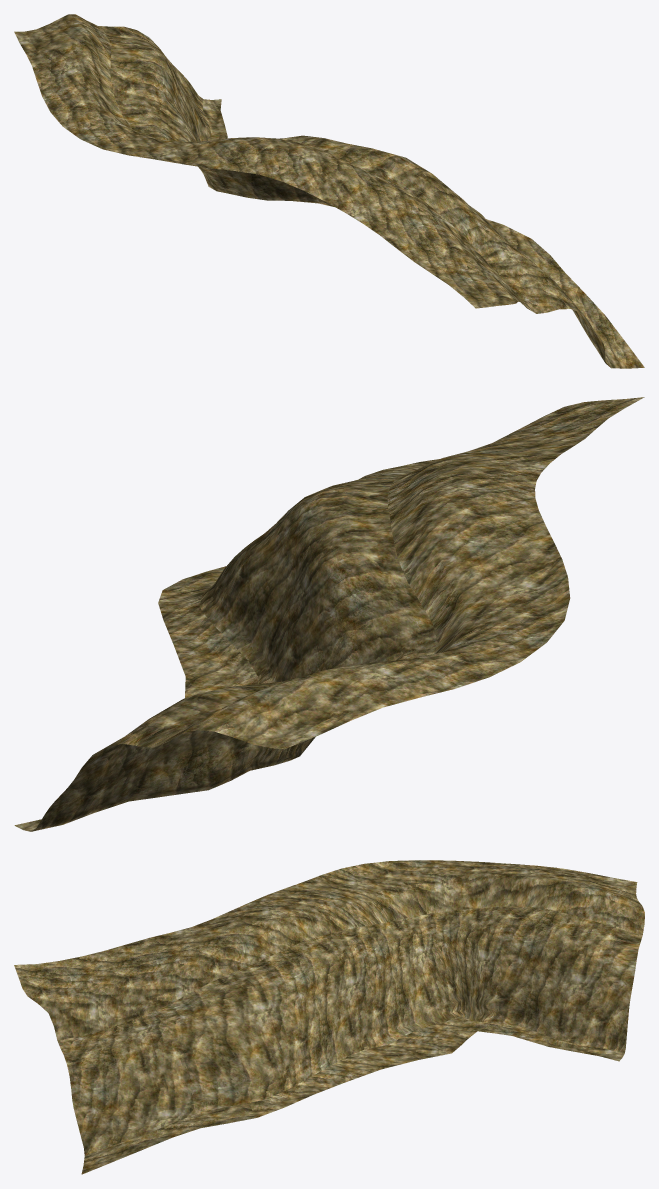
The model's file is RM_PLAYSURFACE_FINAL_MESH06.fbx.
3 renders of one model, top to bottom at view 1: azimuth 30°, elevation 25°; view 2: azimuth 150°, elevation 25°; view 3: azimuth 270°, elevation 25°, orthographic. The views are drawn at different scales.
Parts seen in each view (by area): view 1: RM_PLAYSURFACE_FINAL_MESH06; view 2: RM_PLAYSURFACE_FINAL_MESH06; view 3: RM_PLAYSURFACE_FINAL_MESH06.
Boxes of the visible parts, box(x1,y1,x2,y2) form: RM_PLAYSURFACE_FINAL_MESH06: box(14, 14, 644, 368); RM_PLAYSURFACE_FINAL_MESH06: box(14, 397, 644, 831); RM_PLAYSURFACE_FINAL_MESH06: box(14, 860, 644, 1174).
Size of the model in its own units: 262730 by 131004 by 441005.
Materials: 2 (2 with a texture image).
